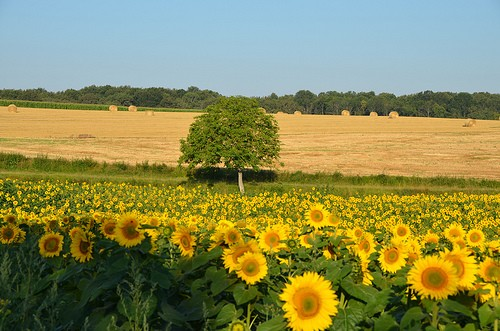flower: (278, 269, 341, 331), (404, 254, 460, 303), (439, 240, 479, 290), (219, 237, 260, 276), (373, 242, 411, 276), (256, 223, 292, 257), (111, 214, 144, 250), (236, 252, 268, 287), (67, 227, 95, 265), (36, 232, 68, 262), (168, 227, 197, 259), (300, 202, 329, 229), (388, 221, 413, 243), (0, 223, 23, 246), (467, 226, 486, 247)
